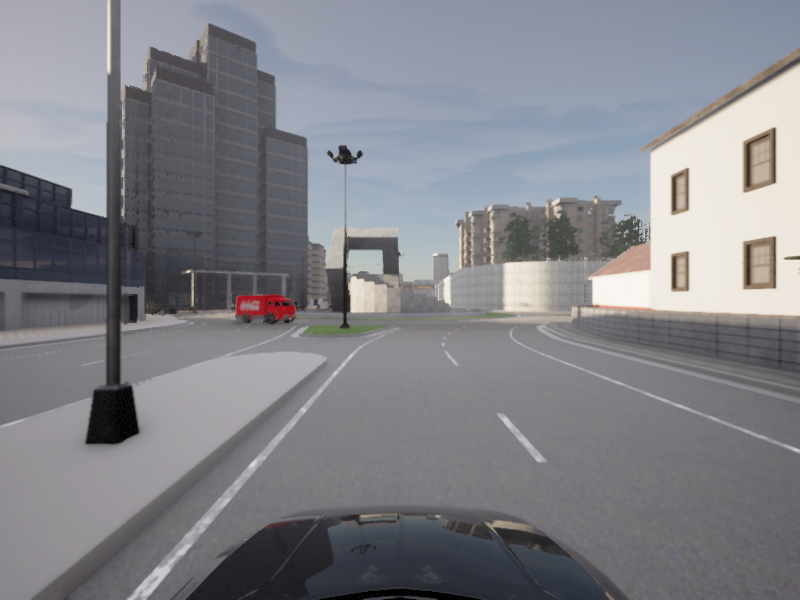vehicle: (233, 294, 301, 325), (231, 304, 244, 319)
